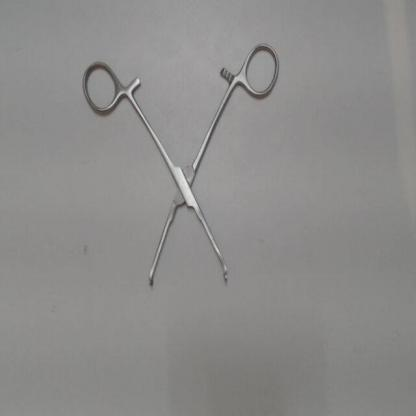Allis Tissue Forceps: (72, 31, 290, 297)
